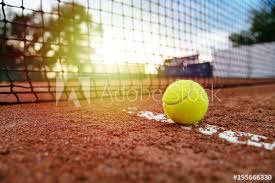tennis_ball: (161, 78, 209, 126)
